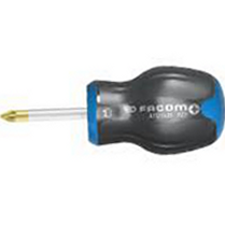screwdriver: (1, 56, 225, 158)
